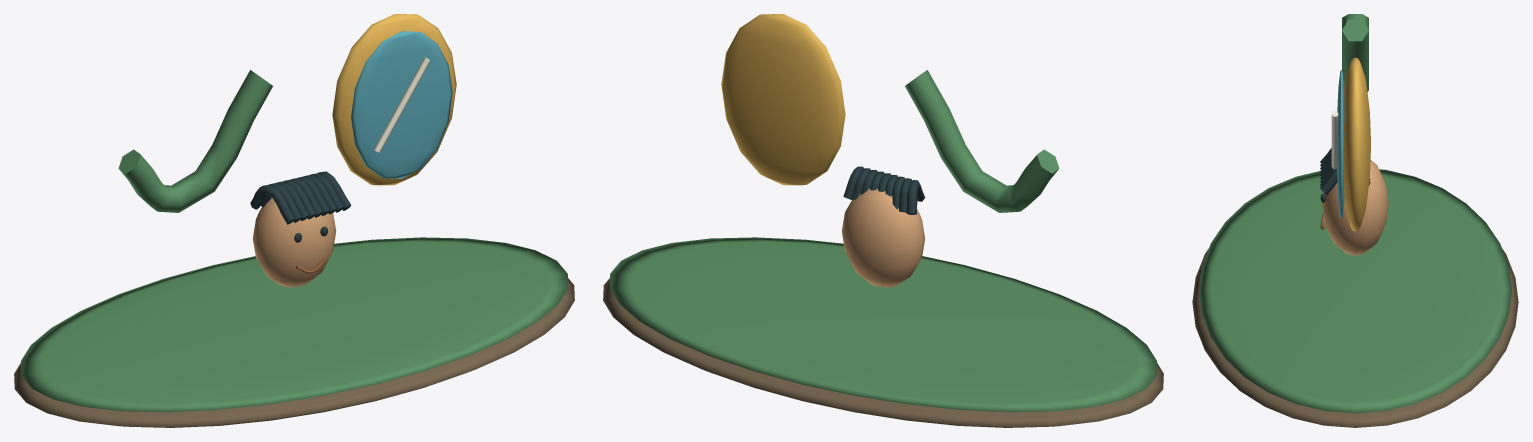
The model's file is complete-second-good-resemblance.glb.
3 renders of one model, left to right at view 1: azimuth 30°, elevation 25°; view 2: azimuth 150°, elevation 25°; view 3: azimuth 270°, elevation 25°, orthographic. The views are drawn at different scales.
Parts seen in each view (by area): view 1: complete-second-good-resemblance_surface_01, complete-second-good-resemblance_surface_03, complete-second-good-resemblance_surface_00, complete-second-good-resemblance_surface_02, complete-second-good-resemblance_surface_05, complete-second-good-resemblance_surface_06, complete-second-good-resemblance_surface_04; view 2: complete-second-good-resemblance_surface_01, complete-second-good-resemblance_surface_02, complete-second-good-resemblance_surface_00, complete-second-good-resemblance_surface_05, complete-second-good-resemblance_surface_06; view 3: complete-second-good-resemblance_surface_01, complete-second-good-resemblance_surface_00, complete-second-good-resemblance_surface_02, complete-second-good-resemblance_surface_05, complete-second-good-resemblance_surface_03, complete-second-good-resemblance_surface_06, complete-second-good-resemblance_surface_04.
Part boxes in pixels (left/top/right/bottom): complete-second-good-resemblance_surface_01: left=21, top=70, right=568, bottom=412; complete-second-good-resemblance_surface_03: left=351, top=31, right=452, bottom=178; complete-second-good-resemblance_surface_00: left=14, top=278, right=574, bottom=427; complete-second-good-resemblance_surface_02: left=332, top=14, right=456, bottom=185; complete-second-good-resemblance_surface_05: left=252, top=197, right=336, bottom=287; complete-second-good-resemblance_surface_06: left=250, top=171, right=350, bottom=242; complete-second-good-resemblance_surface_04: left=374, top=57, right=430, bottom=152; complete-second-good-resemblance_surface_01: left=609, top=70, right=1156, bottom=412; complete-second-good-resemblance_surface_02: left=721, top=14, right=845, bottom=185; complete-second-good-resemblance_surface_00: left=603, top=278, right=1163, bottom=427; complete-second-good-resemblance_surface_05: left=841, top=188, right=925, bottom=287; complete-second-good-resemblance_surface_06: left=843, top=166, right=925, bottom=214; complete-second-good-resemblance_surface_01: left=1199, top=14, right=1511, bottom=413; complete-second-good-resemblance_surface_00: left=1192, top=249, right=1518, bottom=427; complete-second-good-resemblance_surface_02: left=1344, top=57, right=1370, bottom=231; complete-second-good-resemblance_surface_05: left=1322, top=160, right=1388, bottom=255; complete-second-good-resemblance_surface_03: left=1336, top=70, right=1344, bottom=218; complete-second-good-resemblance_surface_06: left=1320, top=148, right=1370, bottom=202; complete-second-good-resemblance_surface_04: left=1331, top=111, right=1338, bottom=169.
Bounding box in the file's own units: 4.56 × 2.56 × 2.5.
